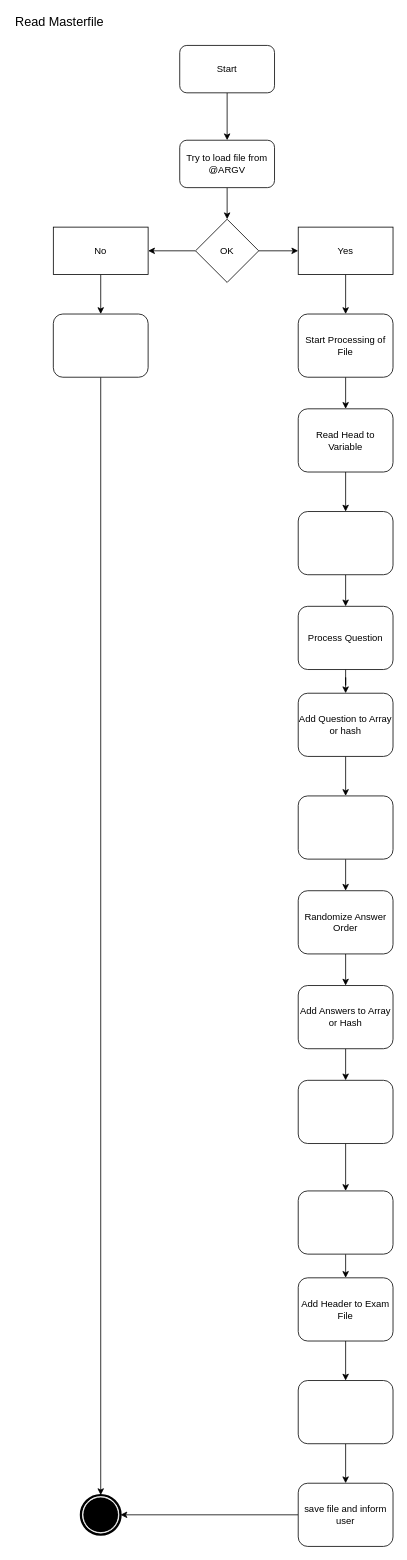
Some shapes in this 407 by 1560 pixel diagram are drawn without their labels. The centre of each missing label's shape, as x and y in pixels:
Add Answers to Question Array or Hash: point (345, 1112)
add Questions to Exam File: point (345, 1412)
Create new File "Exam": point (345, 1222)
Print Error and terminate: point (100, 345)
Process Answers, remove X and add Checkbox: point (345, 827)
Read each question: point (345, 543)
